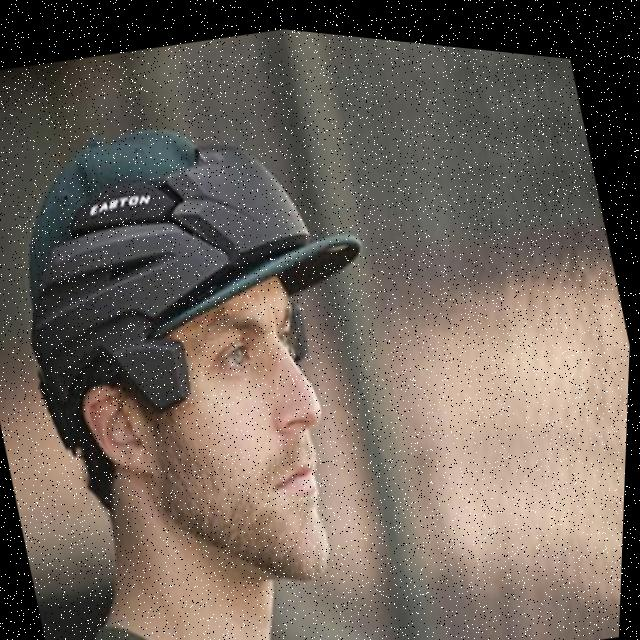illegal_helmet: (0, 56, 456, 640)
